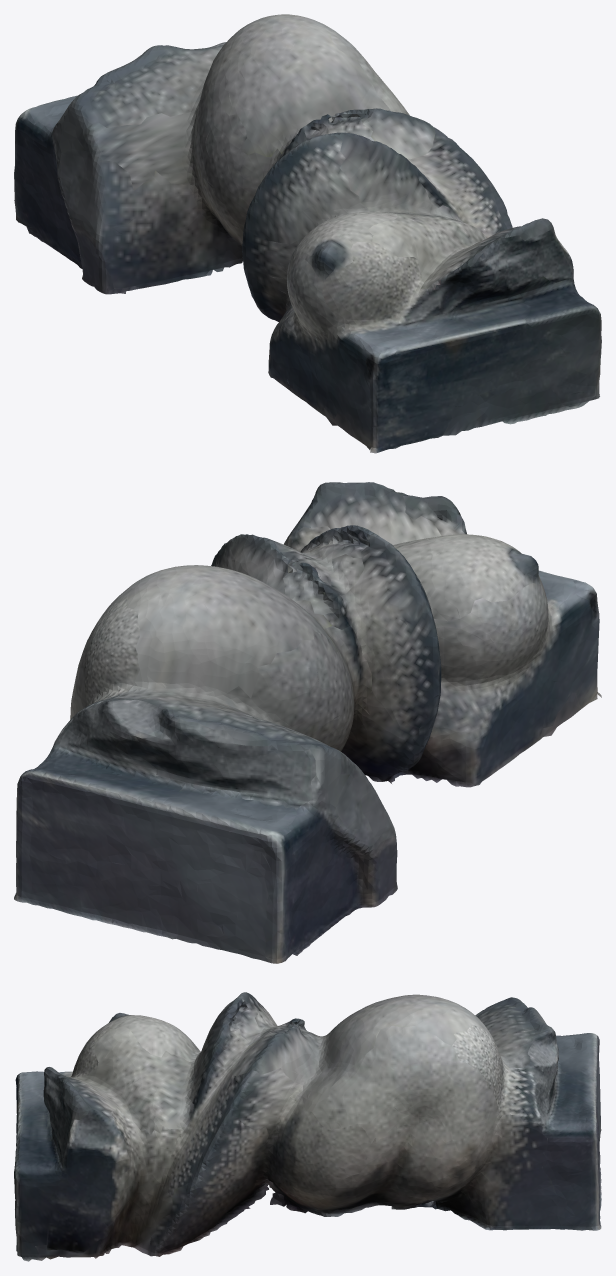
Rendered from schema_model_4_1.glb.
The picture shows the model from 3 angles, top to bottom: view 1: azimuth 30°, elevation 25°; view 2: azimuth 150°, elevation 25°; view 3: azimuth 270°, elevation 25°; orthographic projection. The views are drawn at different scales.
Visible parts, largest first — view 1: textured; view 2: textured; view 3: textured.
Boxes of the visible parts, box(x1,y1,x2,y2) form: textured: box(14, 14, 601, 453); textured: box(14, 482, 601, 963); textured: box(14, 992, 601, 1261).
Bounding box in the file's own units: 0.3012 × 0.2332 × 0.5773.
1 material, 1 textured.
